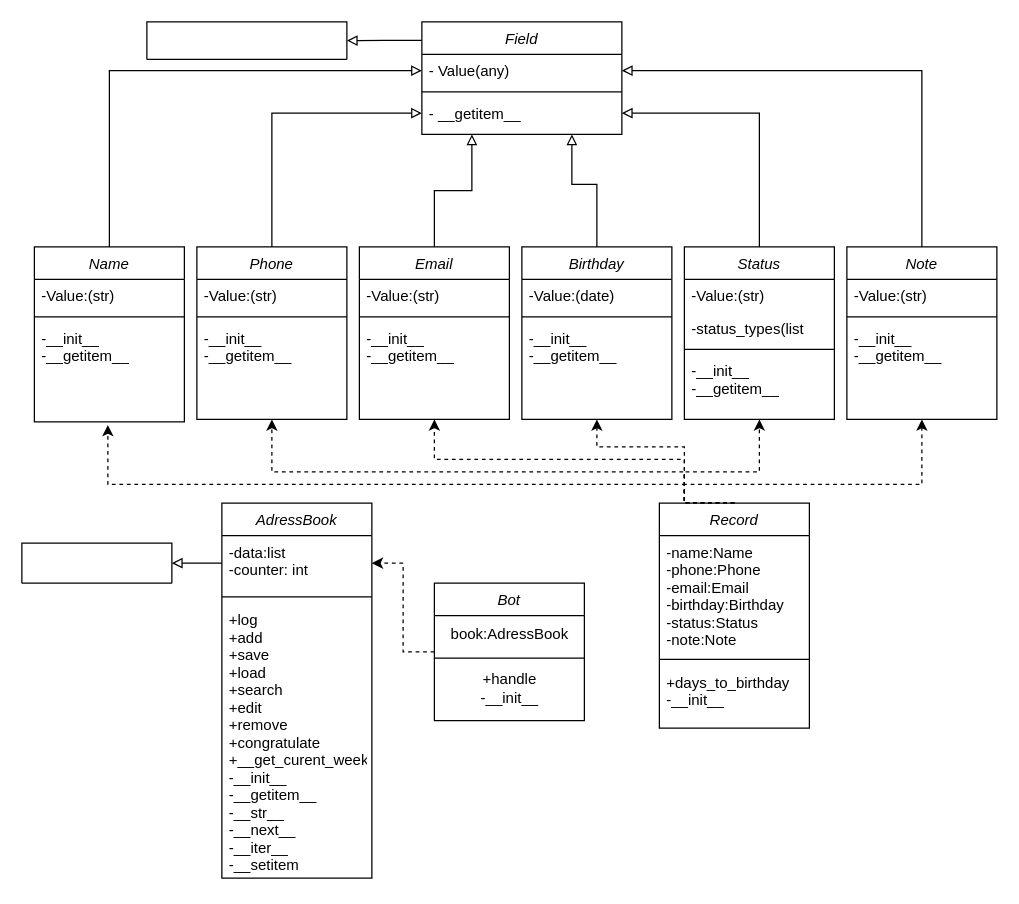
This 1019x904 diagram has some shape labels left out. The centre of each missing label's shape, as x and y in pixels:
"ABC" belongs at point 246,40.
"UserList" belongs at point 96,562.
